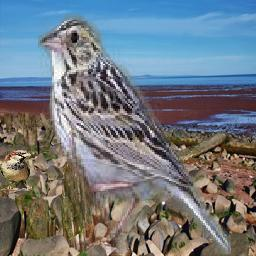Sparrow: (39, 14, 232, 254), (0, 151, 32, 192)
